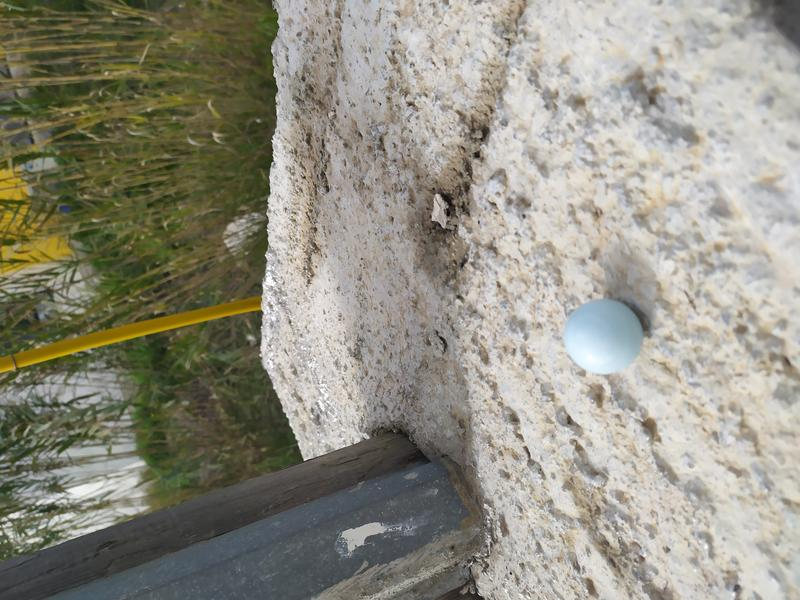Warning: (560, 296, 646, 377)
